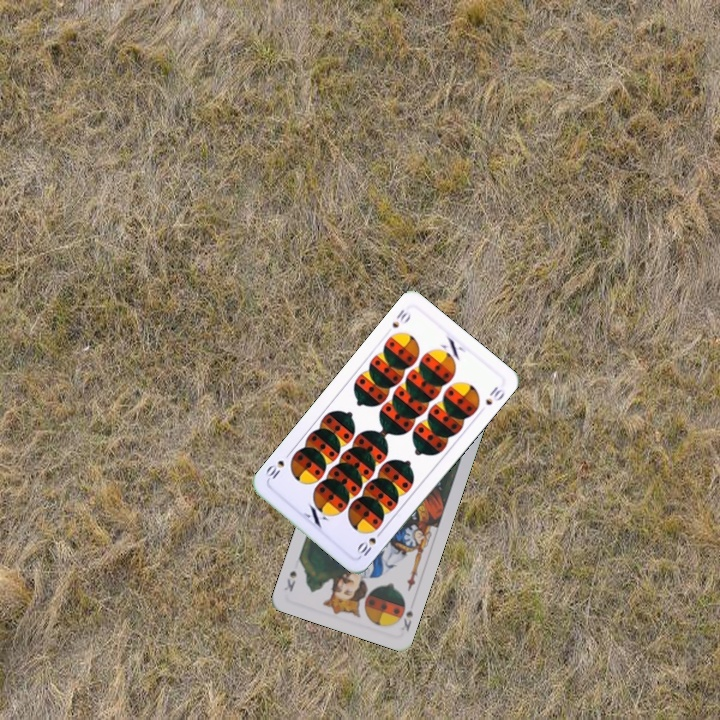S10: (353, 526, 386, 559), (388, 305, 414, 331)
SK: (397, 607, 416, 634)
